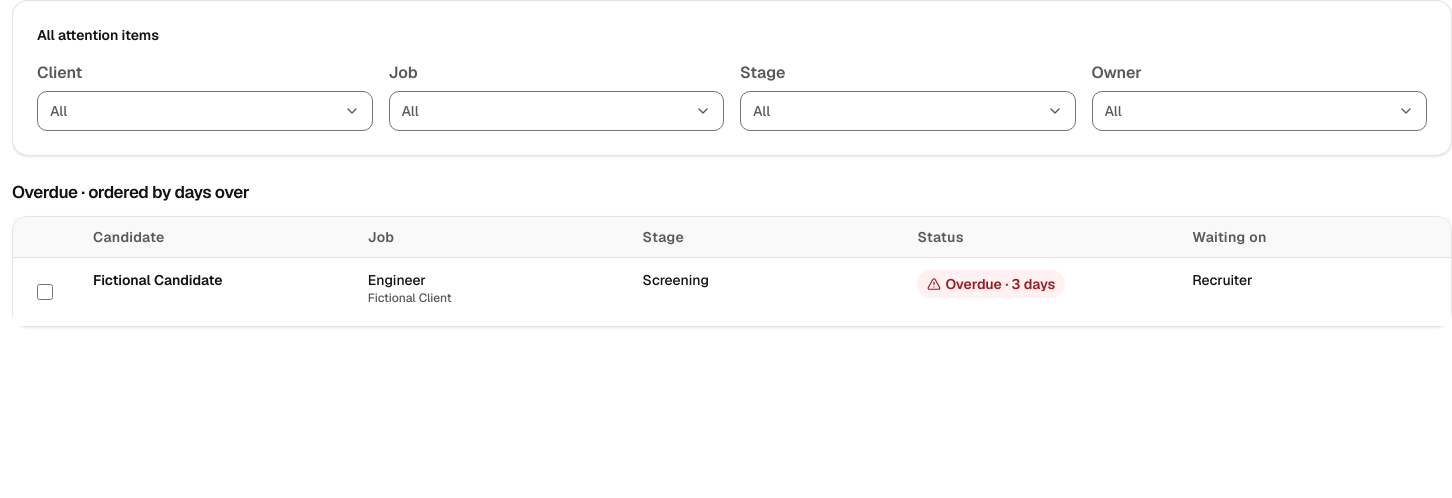
Test case: AC5: the action preview appears only for visible selected entries
This screenshot has width=1452, height=498.
Click the checkbox named "Select Fictional Candidate".
click(45, 292)  # box [37, 284, 53, 300]
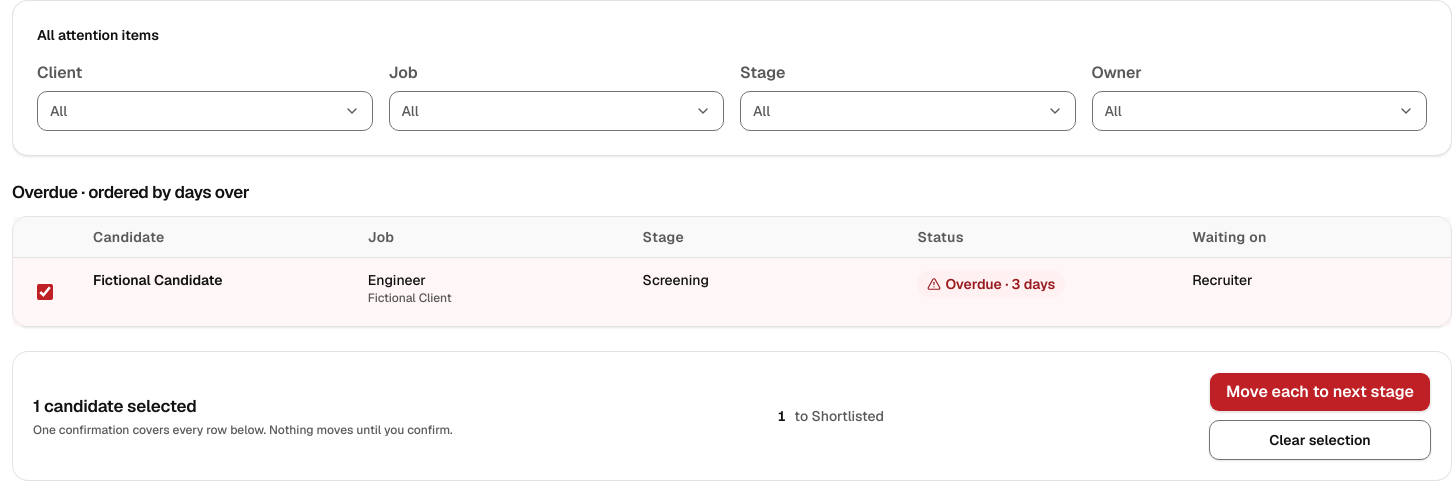
Now the element named "Selection" shows "1 candidate selected", box [33, 395, 197, 417]
